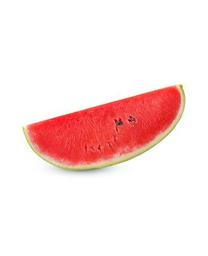watermelon: (20, 84, 187, 172)
